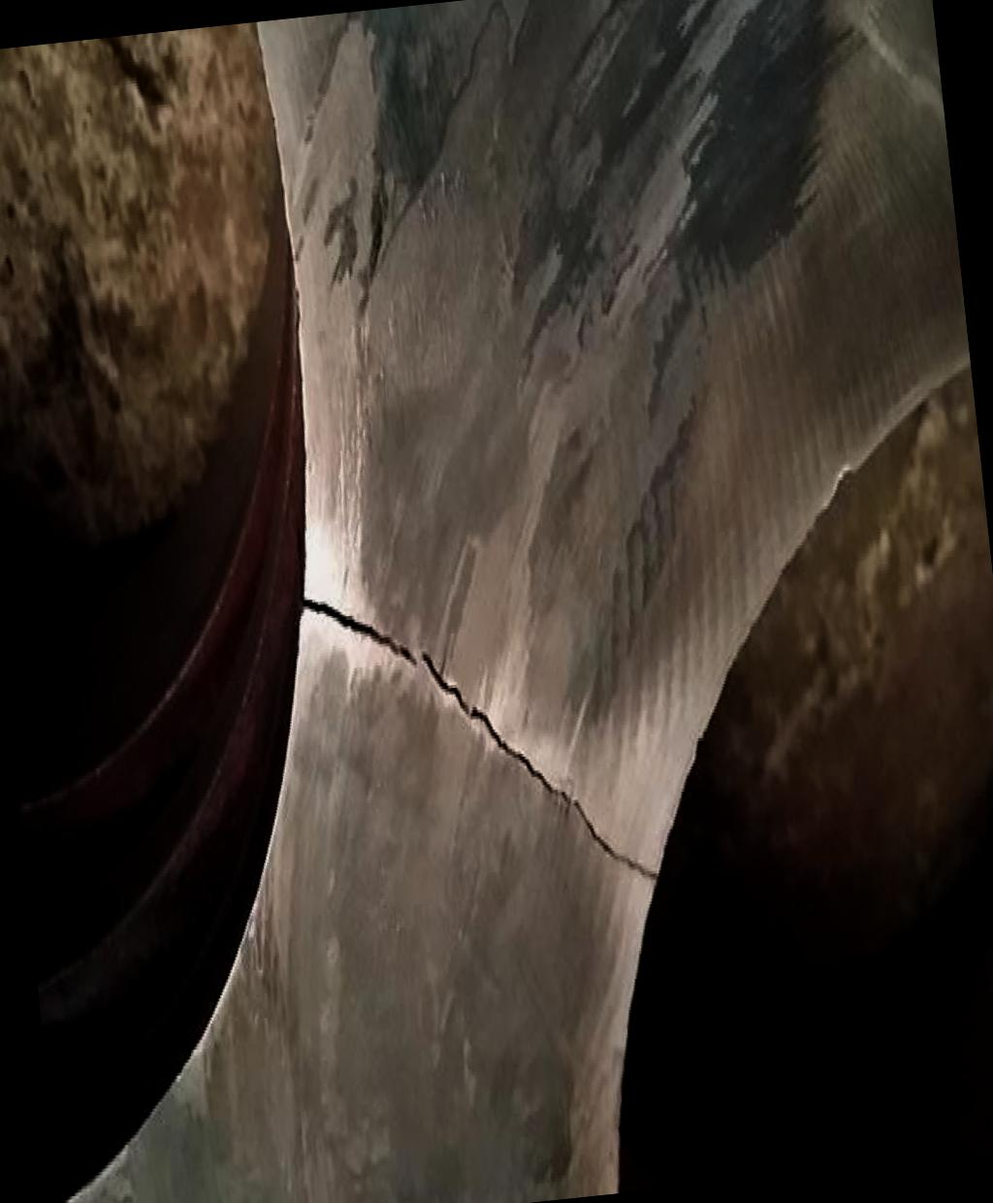crack: (297, 552, 667, 932)
